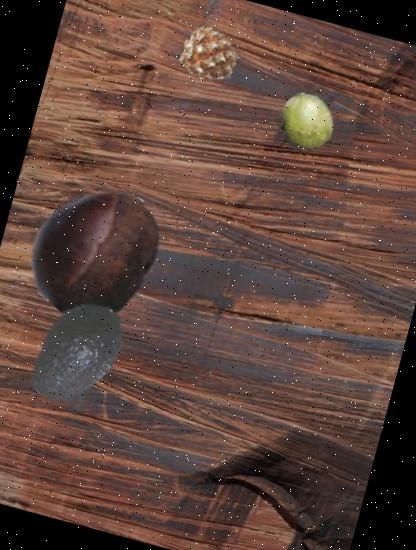Avocado: (8, 285, 144, 421)
Chestnut: (10, 166, 180, 336)
Limes: (270, 87, 340, 158)
Pineapple: (174, 18, 247, 90)
